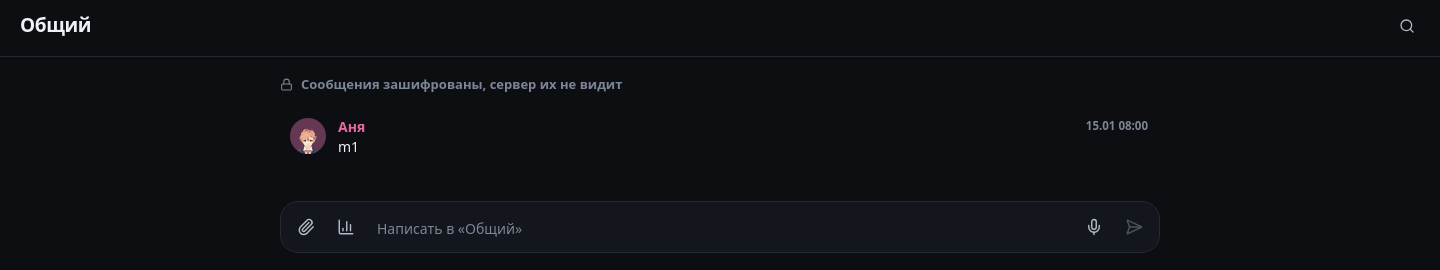
ChatView › Enter sends, Shift+Enter does not, Esc drops the reply
Later steps or results of the test are not shown.
Type "привет" into the text box at (720, 229), box [367,212,1073,246]
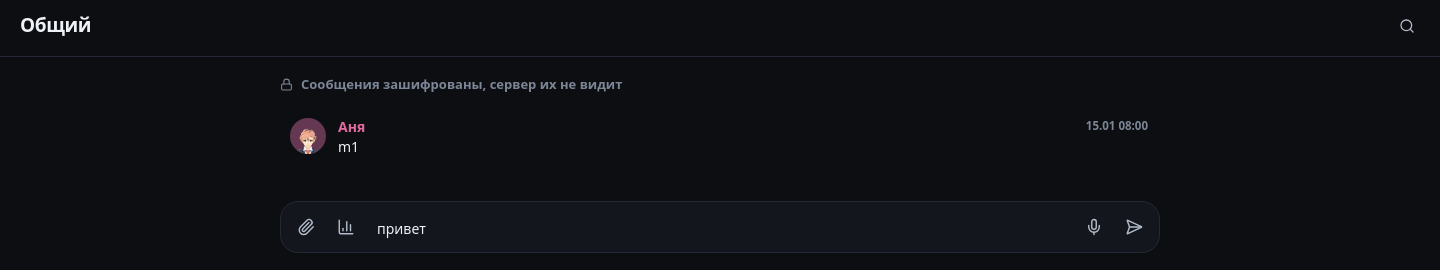
Press Enter in the text box, box [367,212,1073,246]
Press Enter in the text box, box [367,212,1073,246]
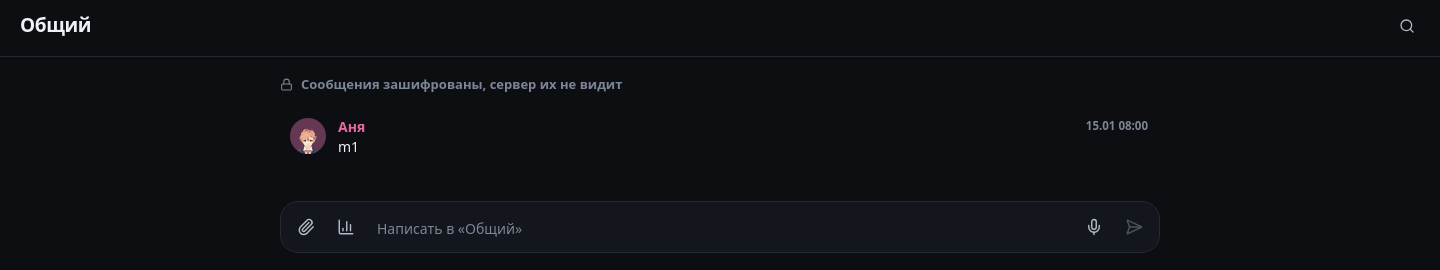
Expected: the text box is empty, [367,212,1073,246]
